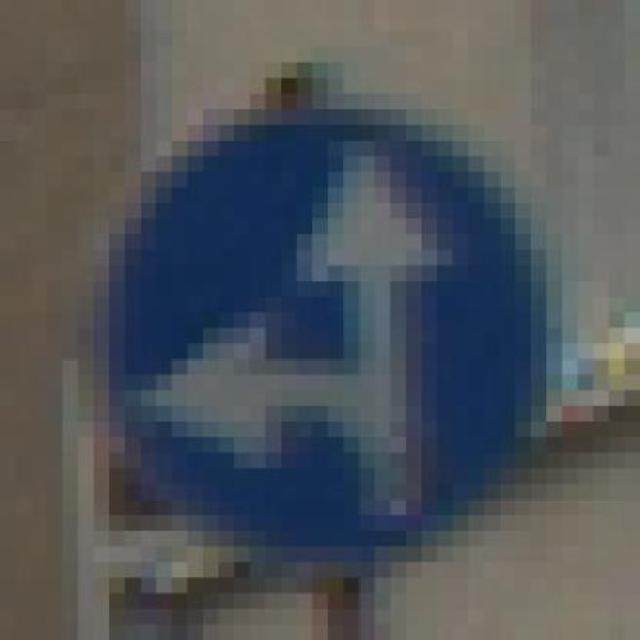Go straight or turn left: (78, 93, 593, 593)
